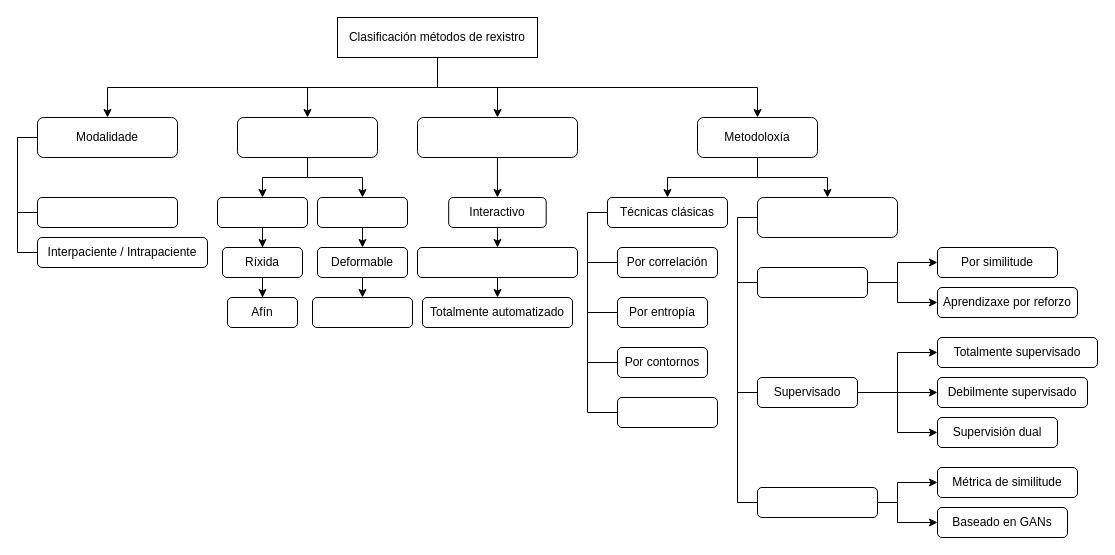
Image size: 1115x555. Some labels were removed from this diagram. The shapes that lost their labels are listed below. From the top down, each one's centre as x and y in pixels, then its label:
At [307,137]: "Tipo de transfomación".
At [497,137]: "Grado de automatización".
At [107,212]: "Unimodal / Multimodal".
At [262,212]: "Lineais".
At [362,212]: "Non-Lineais".
At [827,217]: "Ténicas baseadas en aprendizaxe".
At [497,262]: "Parcialmente automatizado".
At [812,282]: "Iterativo profundo".
At [362,312]: "Difeomórfica".
At [667,412]: "Por wavelet".
At [817,502]: "Non supervisado".
